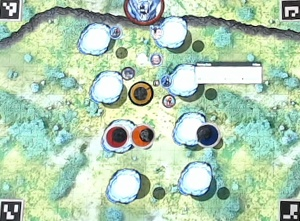blue: (195, 123, 218, 146)
orange: (131, 125, 154, 148)
red: (106, 126, 129, 149)
yellow_night_blue: (131, 83, 154, 106)
